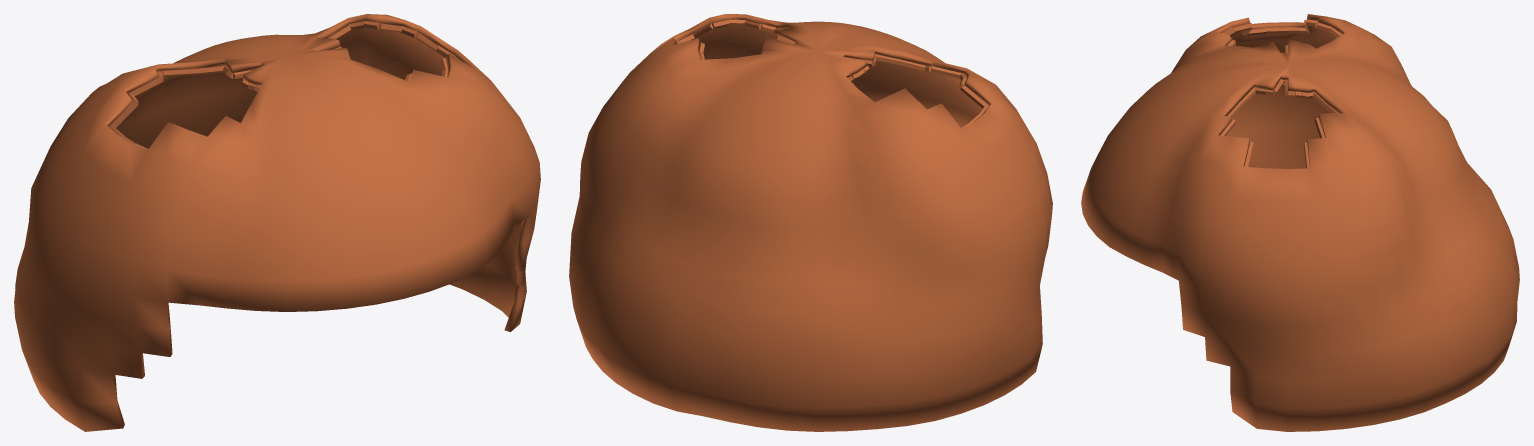
Rendered from Helm_UPRIGHT.fbx.
The picture shows the model from 3 angles, left to right: view 1: azimuth 30°, elevation 25°; view 2: azimuth 150°, elevation 25°; view 3: azimuth 270°, elevation 25°; orthographic projection. The views are drawn at different scales.
Visible parts, largest first — view 1: Helm_UPRIGHT; view 2: Helm_UPRIGHT; view 3: Helm_UPRIGHT.
Part boxes in pixels (x1=…): Helm_UPRIGHT: x1=14, y1=14, x2=540, y2=431; Helm_UPRIGHT: x1=569, y1=14, x2=1052, y2=431; Helm_UPRIGHT: x1=1081, y1=14, x2=1519, y2=431.
Bounding box in the file's own units: 0.6593 × 0.4194 × 0.6046.
